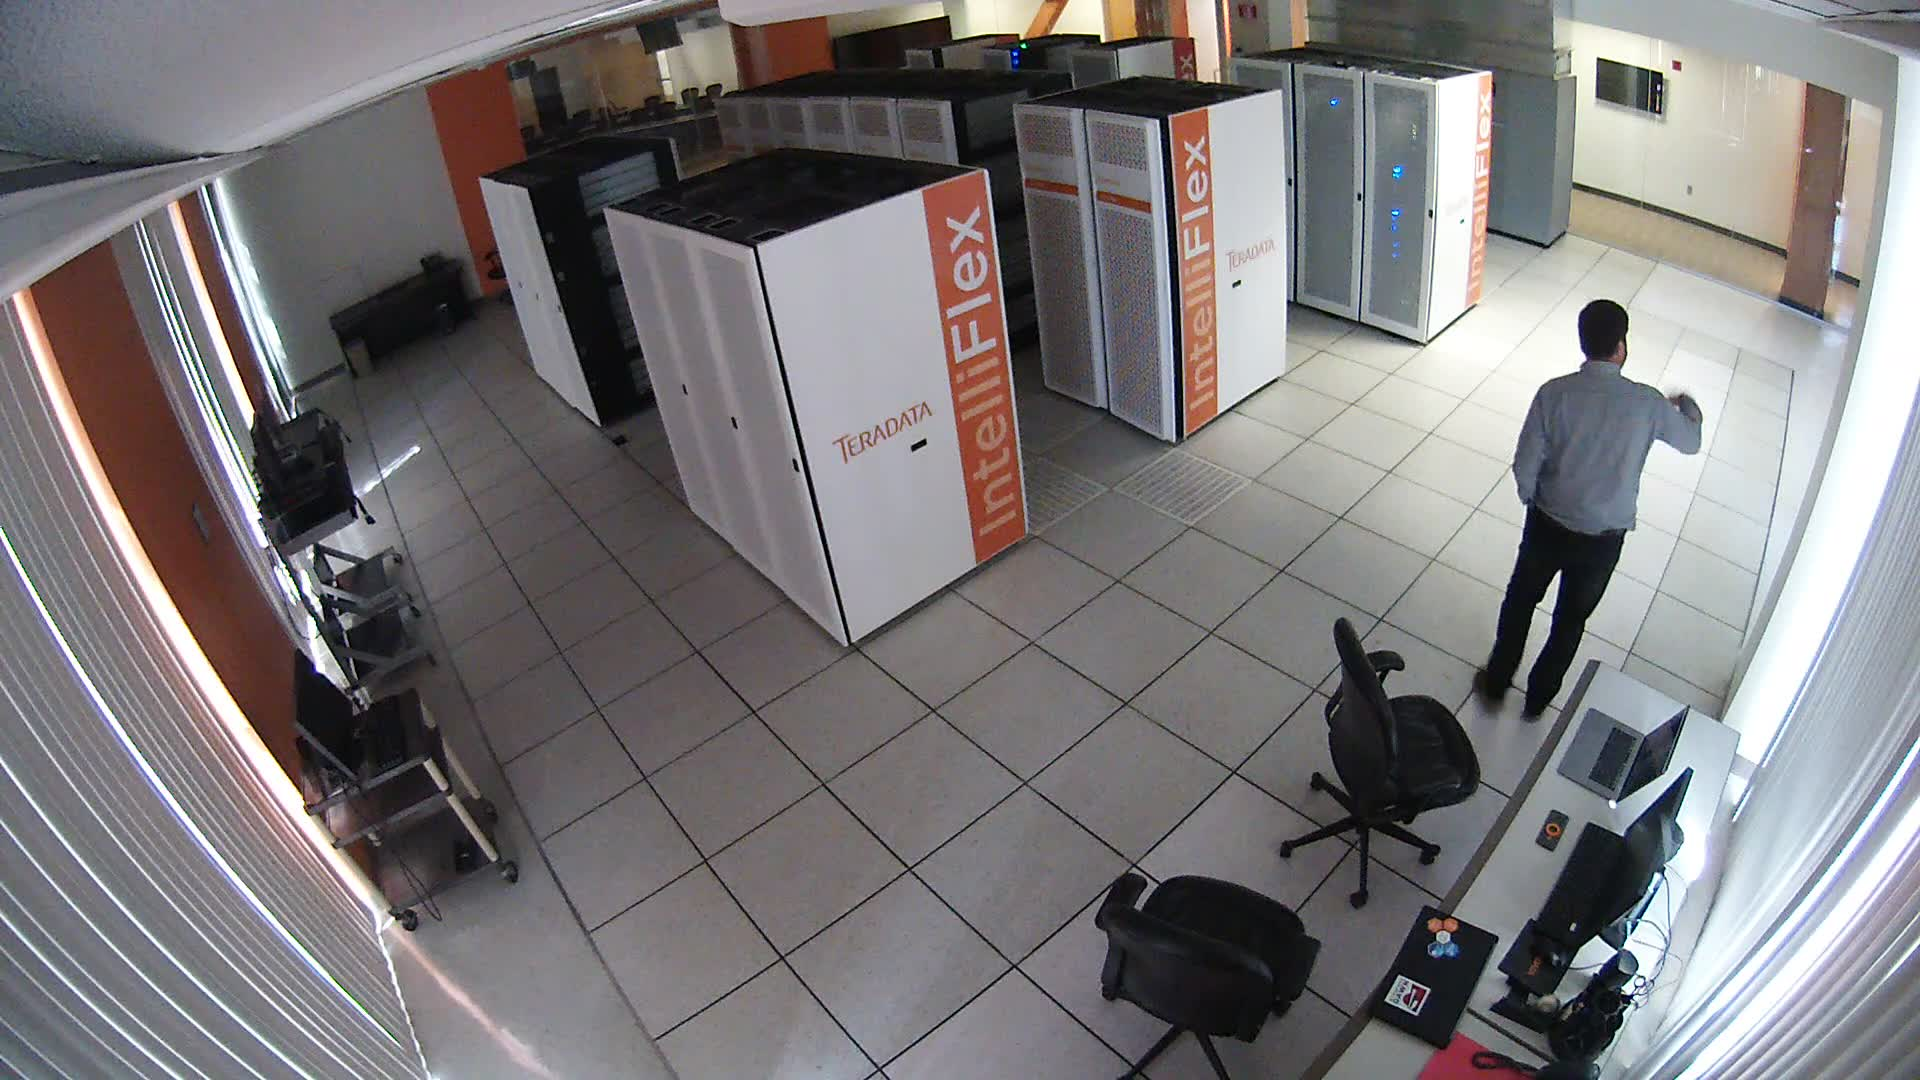person: (1505, 291, 1726, 721)
